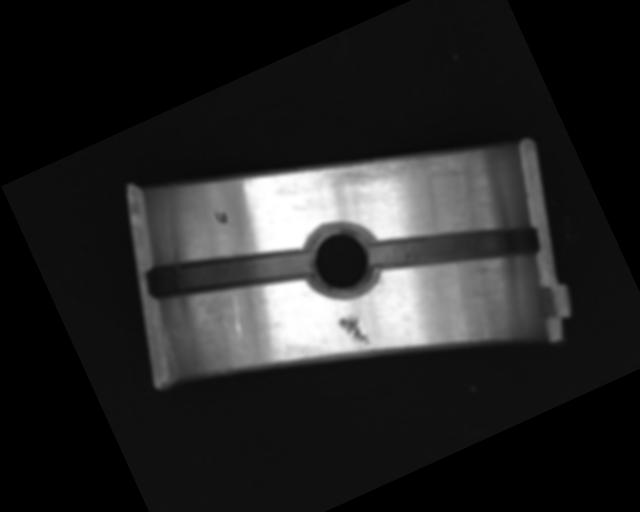blot: (212, 206, 230, 227)
bruise: (336, 310, 373, 353)
gap: (366, 182, 542, 315), (143, 210, 313, 335)
hole: (295, 212, 388, 308)
nick: (219, 292, 253, 340)
scratch: (319, 108, 478, 229)
